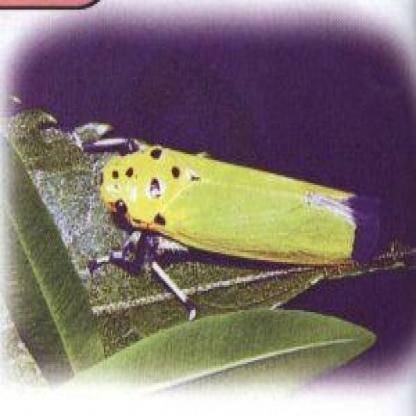Green-Leafhopper: (78, 132, 387, 328)
